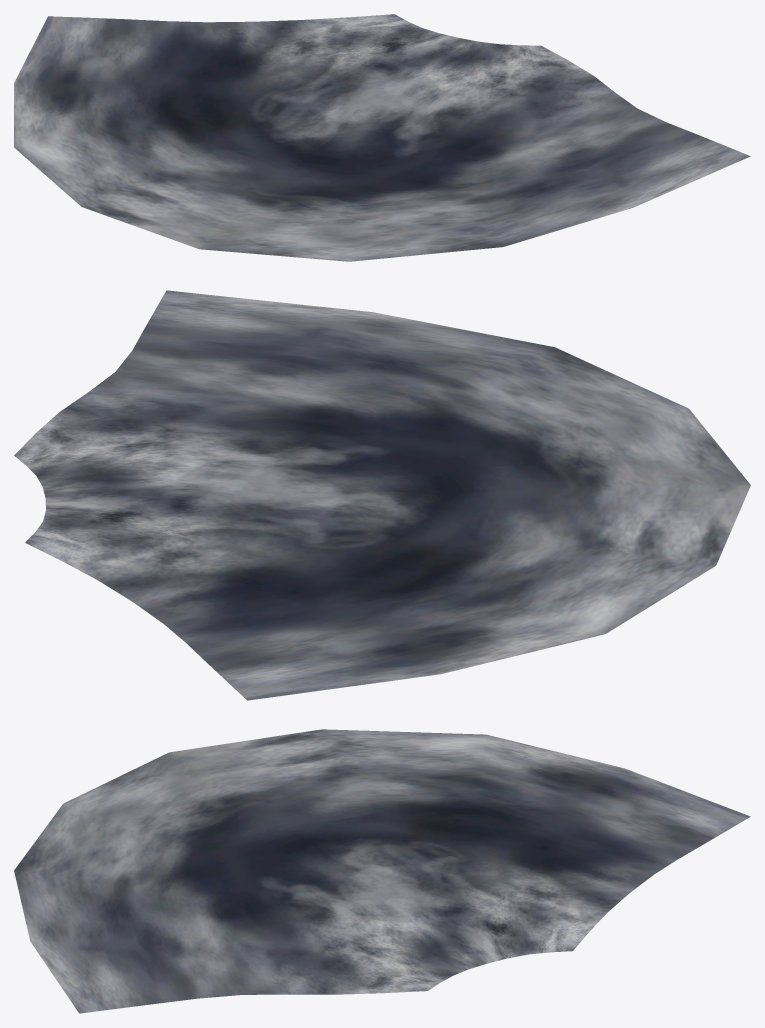
Rendered from CB_NEWPLAYSURFACE_CB_WATERFALLS10.fbx.
3 renders of one model, top to bottom at view 1: azimuth 30°, elevation 25°; view 2: azimuth 150°, elevation 25°; view 3: azimuth 270°, elevation 25°, orthographic. The views are drawn at different scales.
Parts seen in each view (by area): view 1: CB_NEWPLAYSURFACE_CB_WATERFALLS10; view 2: CB_NEWPLAYSURFACE_CB_WATERFALLS10; view 3: CB_NEWPLAYSURFACE_CB_WATERFALLS10.
Part boxes in pixels (bbox=[...]): CB_NEWPLAYSURFACE_CB_WATERFALLS10: bbox=[14, 14, 750, 261]; CB_NEWPLAYSURFACE_CB_WATERFALLS10: bbox=[14, 290, 750, 700]; CB_NEWPLAYSURFACE_CB_WATERFALLS10: bbox=[14, 729, 750, 1013].
Size of the model in its own units: 106076 by 1139 by 116180.
1 material, 1 textured.
